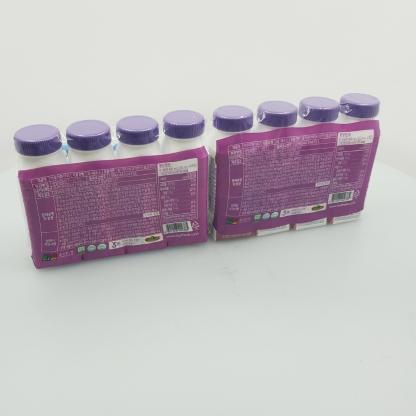-------------400ML: (12, 110, 209, 269), (205, 93, 381, 242)
